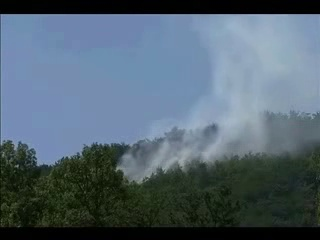smoke: (193, 14, 295, 159), (104, 115, 194, 183)
